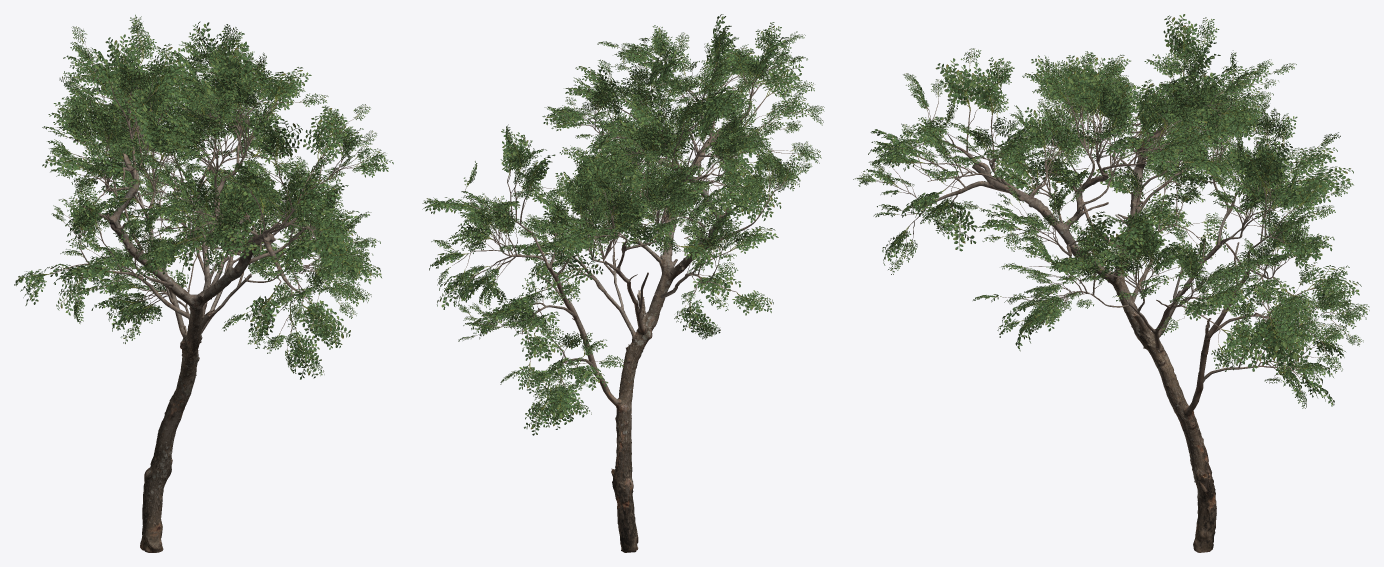
Rendered from tree-small-02-lod0.glb.
3 renders of one model, left to right at view 1: azimuth 30°, elevation 25°; view 2: azimuth 150°, elevation 25°; view 3: azimuth 270°, elevation 25°, orthographic. The views are drawn at different scales.
Visible parts, largest first — view 1: tree_small_02_LOD0; view 2: tree_small_02_LOD0; view 3: tree_small_02_LOD0.
Part boxes in pixels (bbox=[...]): tree_small_02_LOD0: bbox=[14, 14, 393, 552]; tree_small_02_LOD0: bbox=[422, 14, 824, 552]; tree_small_02_LOD0: bbox=[853, 14, 1369, 552].
Bounding box in the file's own units: 2.92 × 4.56 × 4.29.
3 materials, 3 textured.
